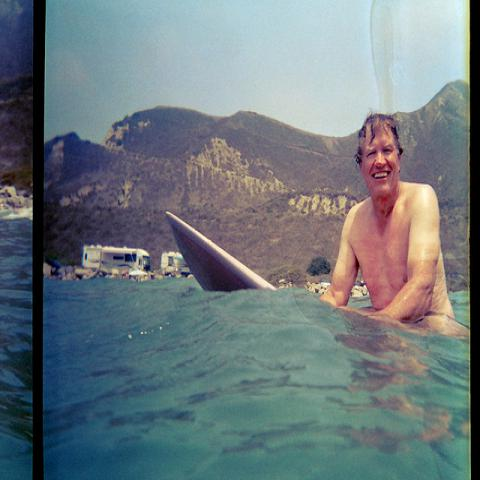truck: (161, 251, 191, 278)
